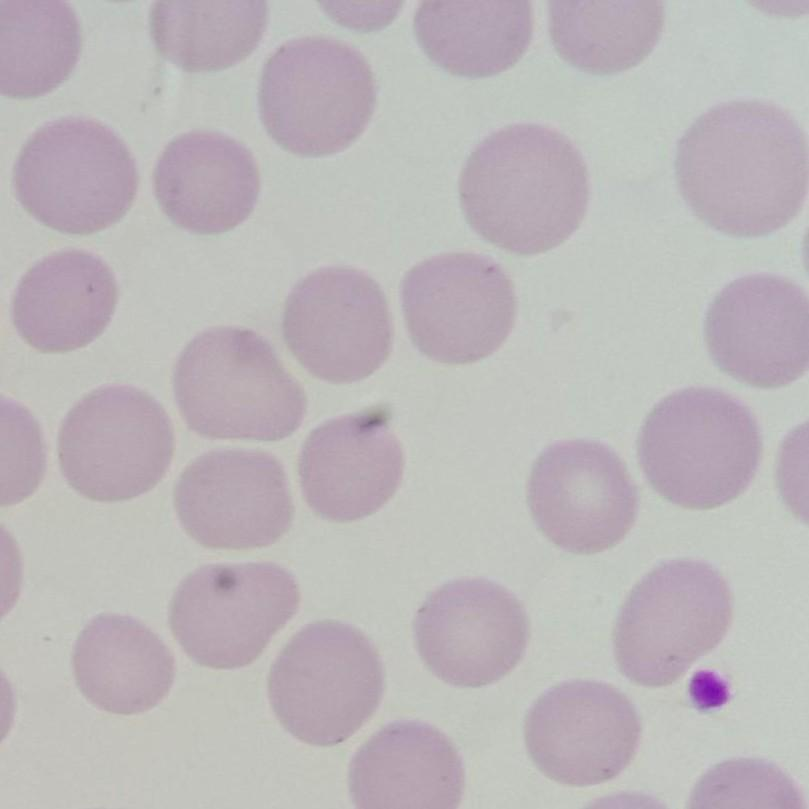Uninfected: (672, 94, 809, 238), (460, 121, 587, 260), (638, 382, 765, 511), (173, 322, 307, 440), (613, 559, 734, 688), (15, 114, 138, 236), (260, 36, 379, 159), (53, 382, 175, 501), (268, 622, 384, 745), (170, 562, 303, 668), (278, 269, 394, 384), (170, 447, 293, 553), (295, 409, 405, 526), (528, 437, 636, 556), (402, 252, 515, 365), (145, 131, 264, 236), (708, 269, 809, 392), (525, 682, 641, 786), (413, 576, 521, 686), (70, 606, 176, 716), (13, 244, 113, 357), (350, 716, 465, 809)
